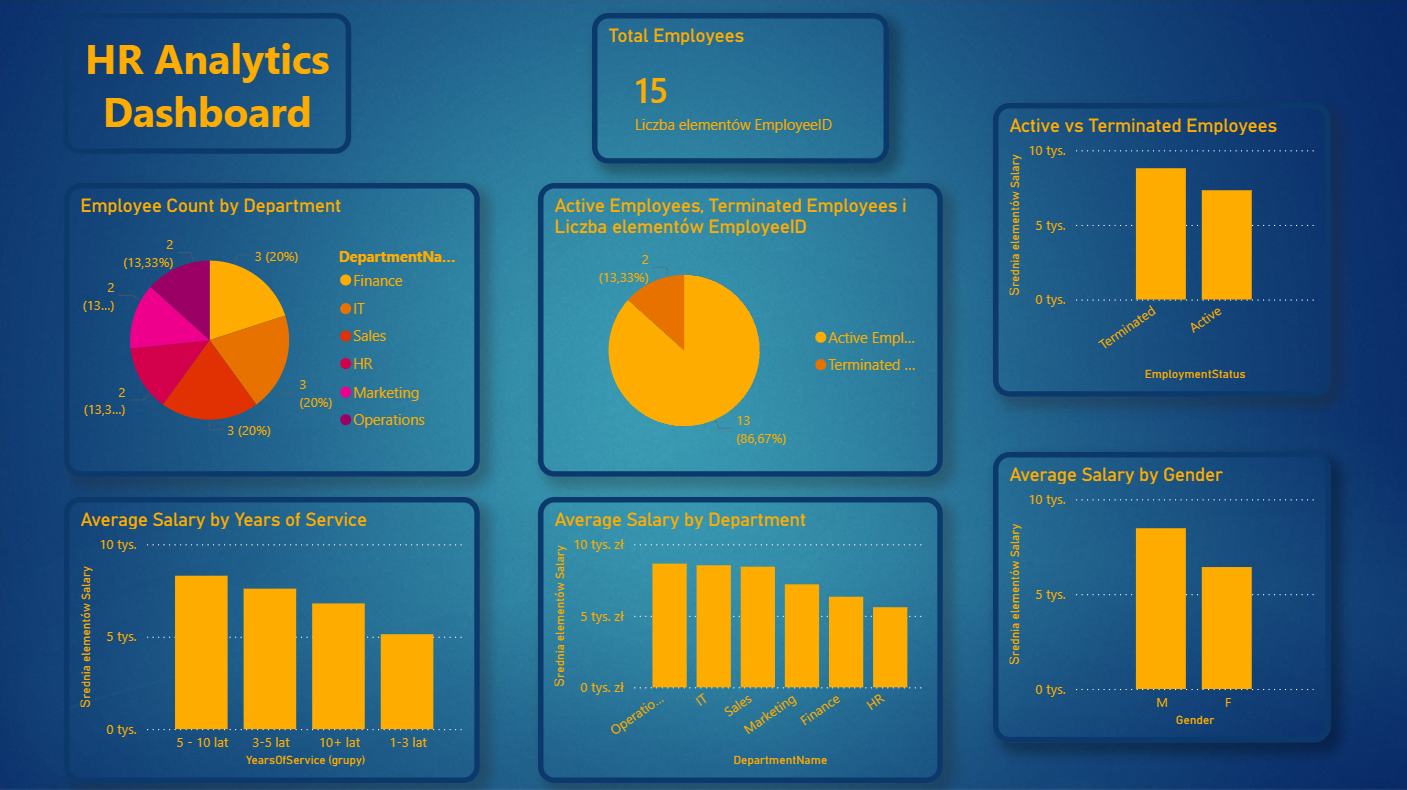

Layout of this report page (visuals, bound fields, positions):
{"tool":"powerbi","page":{"name":"HR Analytics Dashboard","canvas":[1280,720],"ordinal":0},"visuals":[{"type":"cardVisual","title":"Total Employees","fields":{"Data":["CountNonNull(Employees.EmployeeID)"]},"box":[539.1,11.8,270,137.3],"z":0},{"type":"pieChart","fields":{"Y":["Absences.Active Employees","Absences.Terminated Employees"]},"box":[490,166.7,367.8,266.7],"z":1000},{"type":"columnChart","title":"Average Salary by Department","fields":{"Y":["Avg(Employees.Salary)"],"Category":["Departments.DepartmentName"]},"box":[490,452.2,367.8,260],"z":2000},{"type":"columnChart","title":"Average Salary by Years of Service","fields":{"Category":["Employees.YearsOfService (grupy)"],"Y":["Avg(Employees.Salary)"]},"box":[58.9,452.2,377.8,260],"z":3000},{"type":"pieChart","title":"Employee Count by Department","fields":{"Category":["Departments.DepartmentName"],"Y":["CountNonNull(Employees.EmployeeID)"]},"box":[58.9,166.7,377.8,266.7],"z":4000},{"type":"columnChart","title":"Active vs Terminated Employees","fields":{"Category":["Employees.EmploymentStatus"],"Y":["Avg(Employees.Salary)"]},"box":[903.3,93.3,306.7,266.7],"z":5000},{"type":"columnChart","title":"Average Salary by Gender","fields":{"Category":["Employees.Gender"],"Y":["Avg(Employees.Salary)"]},"box":[903.3,411.1,306.7,264.4],"z":6000},{"type":"textbox","box":[58.5,11.5,262.5,127.7],"z":7000}]}

Visuals, with their boxes in screenshot pixels (x1, y1, x2, y2), scaled from the page's 1280x720 canvas onto the 1407x790 screenshot:
"Total Employees" cardVisual: (593, 13, 889, 164)
pieChart - Absences.Active Employees x Absences.Terminated Employees: (539, 183, 943, 476)
"Average Salary by Department" columnChart: (539, 496, 943, 781)
"Average Salary by Years of Service" columnChart: (65, 496, 480, 781)
"Employee Count by Department" pieChart: (65, 183, 480, 476)
"Active vs Terminated Employees" columnChart: (993, 102, 1330, 395)
"Average Salary by Gender" columnChart: (993, 451, 1330, 741)
textbox: (64, 13, 353, 153)
